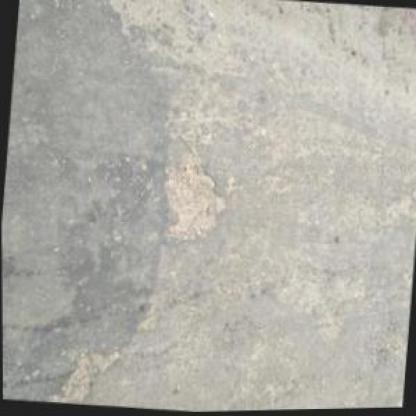pothole: (158, 158, 233, 250), (60, 355, 93, 404)
